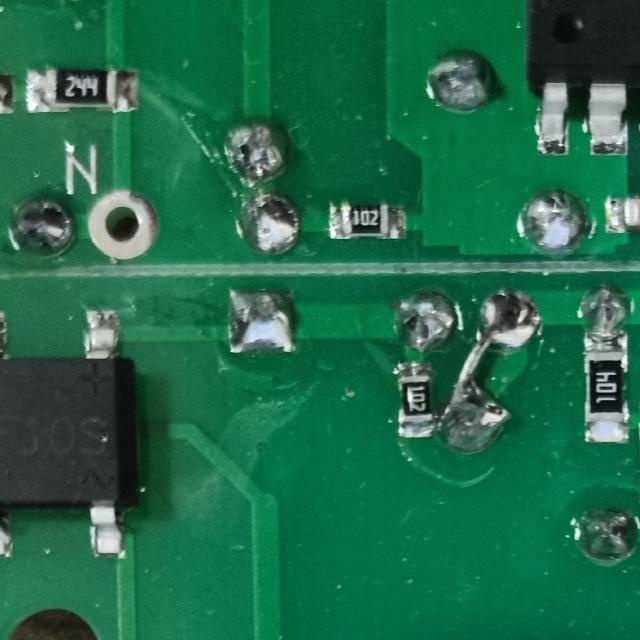chip-resistor: (24, 66, 143, 113), (584, 331, 631, 444), (325, 200, 407, 241), (395, 361, 434, 439)
ic: (0, 305, 142, 567)
